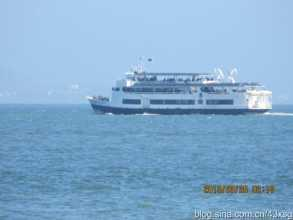otherboat: (84, 60, 283, 115)
